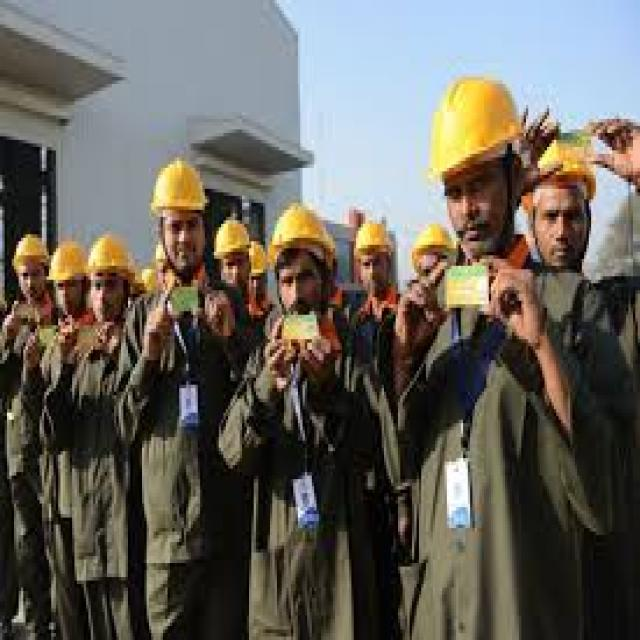Safety-Helmet: (424, 66, 528, 186), (265, 196, 340, 269), (147, 150, 214, 228), (530, 133, 602, 199), (82, 227, 140, 287), (349, 207, 398, 270), (209, 210, 256, 269), (42, 234, 88, 290), (411, 214, 457, 269), (9, 228, 52, 276)
